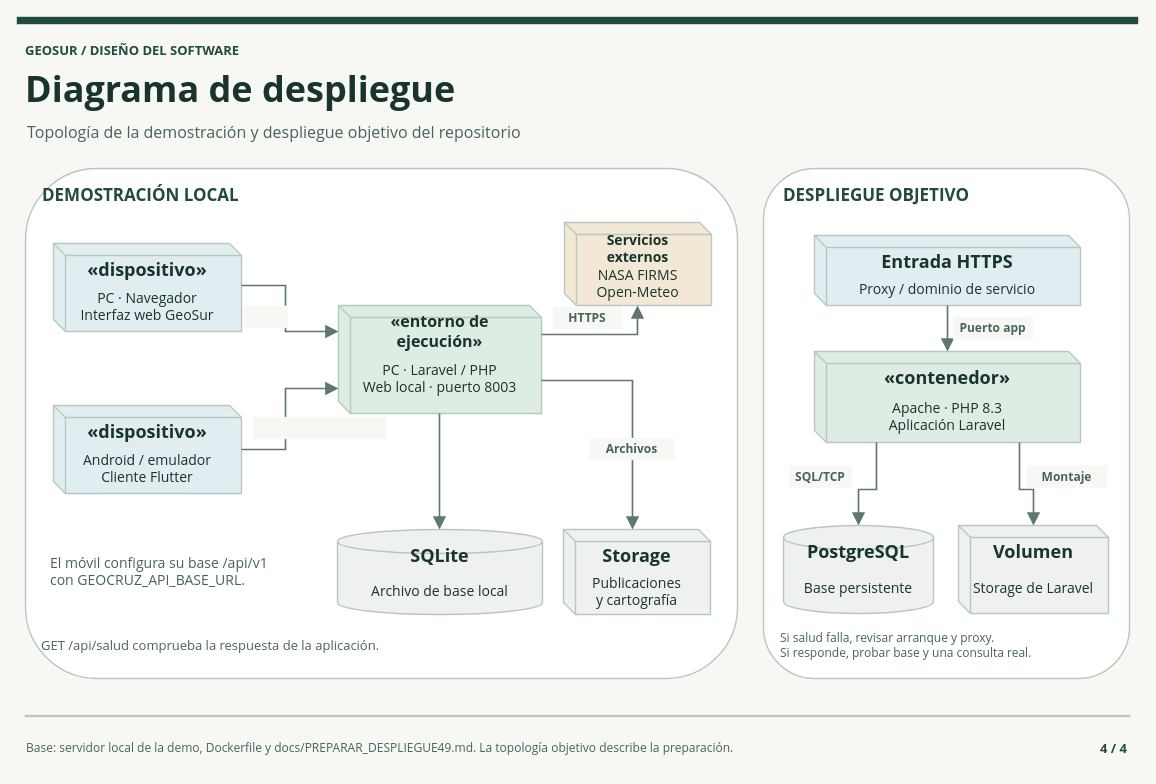
This 1156x784 diagram has some shape labels left out. Each missing label, with the centre of its shape:
HTTP: [265,316]
HTTP · URL de API: [319,427]
